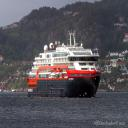cruises: (27, 29, 103, 101)
